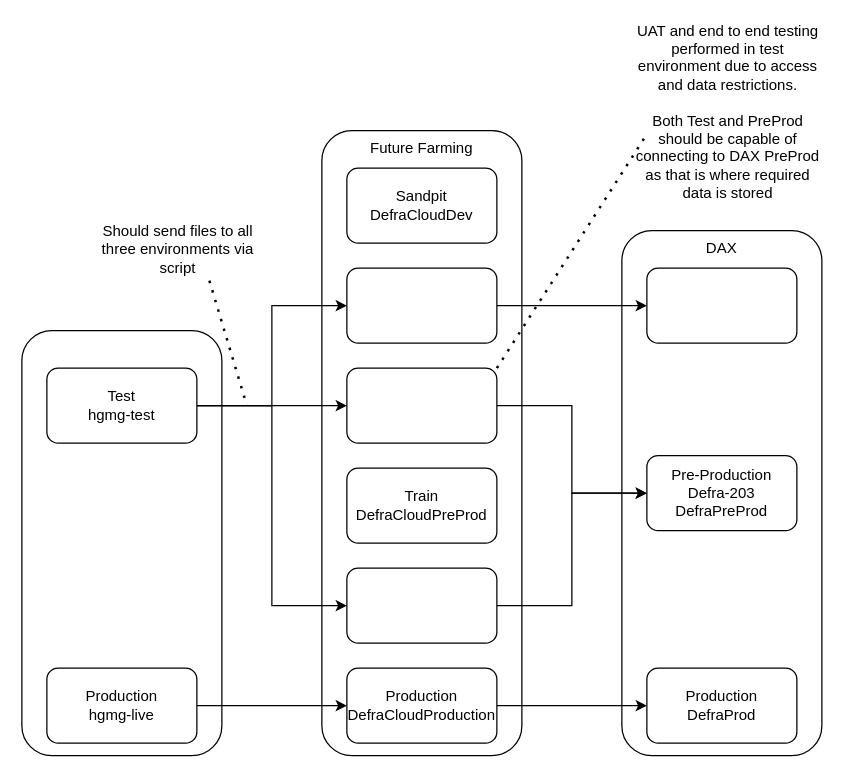
Image size: 844x778. Some labels were removed from this diagram. Each missing label, with the box of its shape:
Development DefraCloudDev: (346, 267, 497, 343)
Development defradev-SAT DefraDev: (646, 267, 797, 343)
Managed Gateway: (21, 329, 222, 756)
Pre-Production DefraCloudPreProd: (346, 567, 497, 643)
Test DefraCloudDev: (346, 367, 497, 443)
